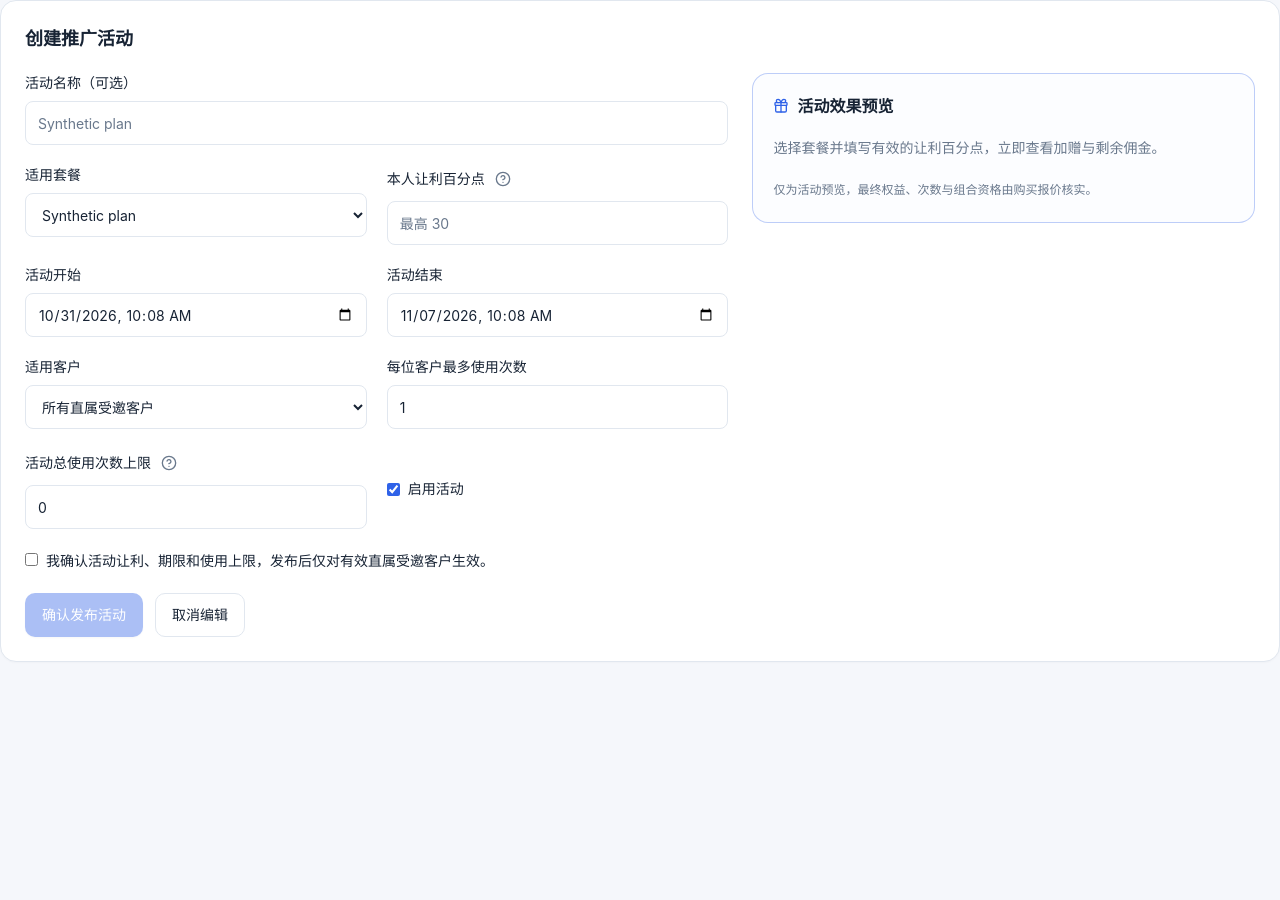
it: localizes the live campaign preview in zh while preserving authored names and precise terms
In the field named "本人让利百分点": (558, 223) [387,201,728,245], type "10.0000000000000001"
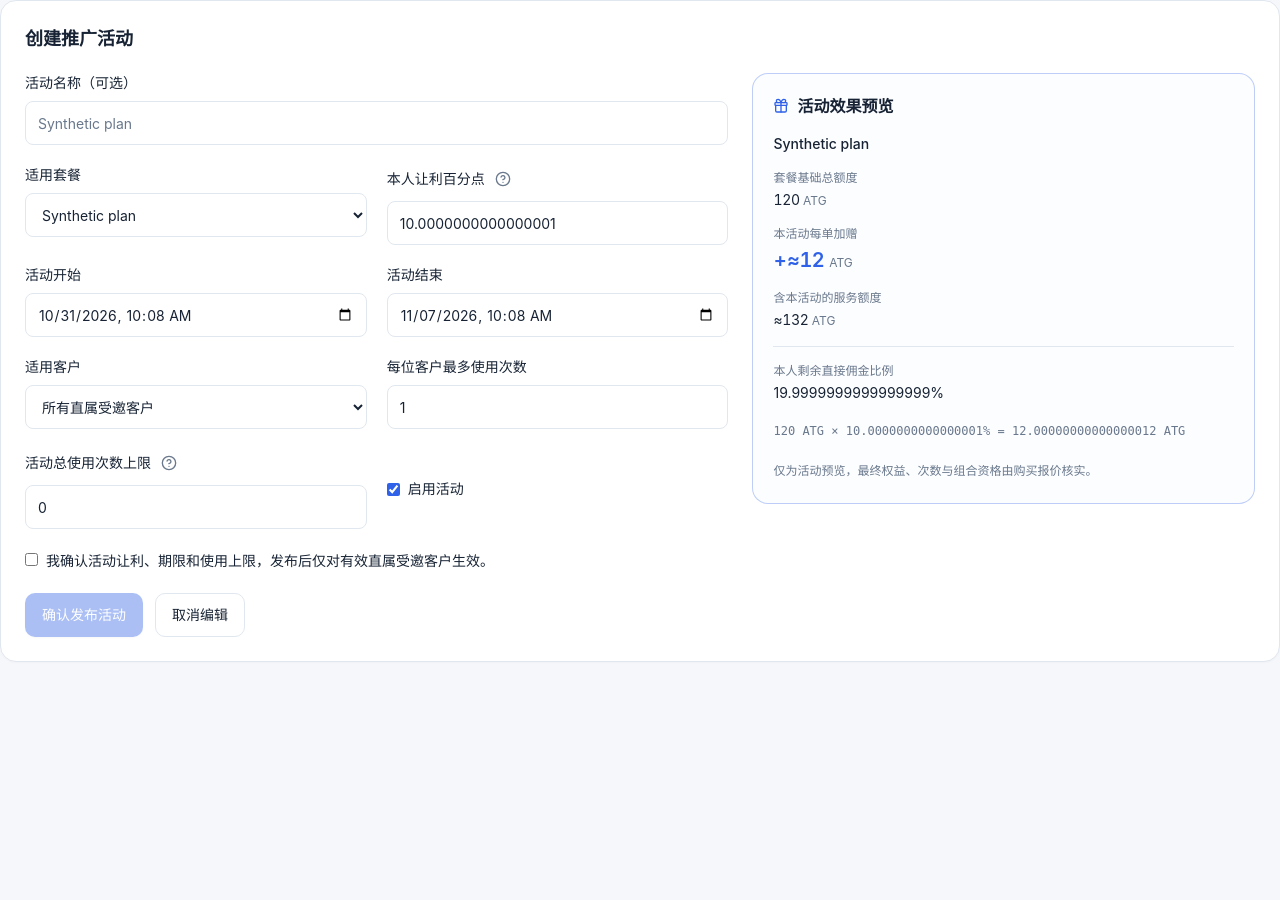
Expected: the element labelled "活动效果预览" shows "Synthetic plan", [774,135,869,152]
Expected: the text "本人剩余直接佣金比例" is shown, [774,363,894,378]
Expected: the element labelled "活动效果预览" shows "19.9999999999999999%", [752,73,1255,504]
